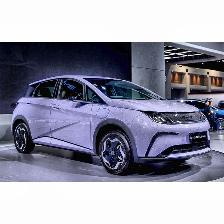EV: (12, 77, 213, 178)
